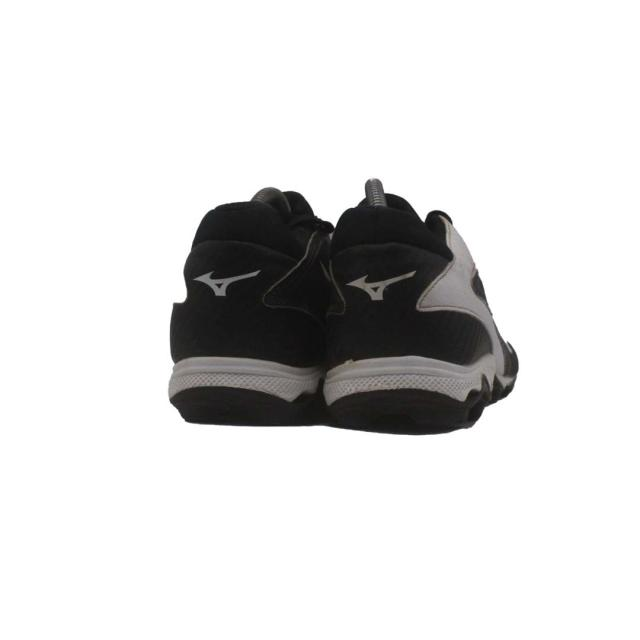heel: (173, 194, 335, 364), (334, 210, 475, 361)
midsole: (322, 345, 505, 421), (168, 356, 324, 420)
